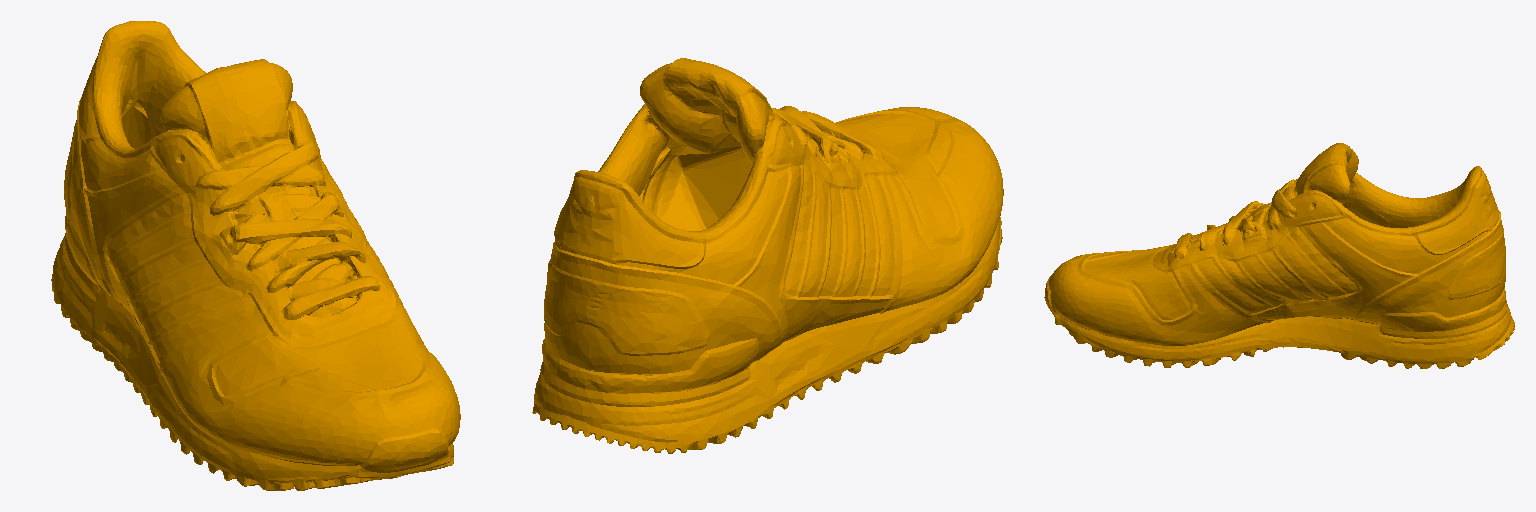
robot.urdf — 1zfj1p7h:
<?xml version='1.0'?>

<robot name="1zfj1p7h">
    <static>false</static>
    <link name="link">
        <inertial>
            <mass value="0.10777072422102028"/>
            <inertia ixx="0.0001183249047209546" ixy="-5.828800922241656e-06" ixz="-3.004969083671206e-06"
                     iyy="2.630734722432051e-05" iyz="-7.879881521695258e-06" izz="0.00011555919004091422"/>
        </inertial>
        <collision name="collision">
            <geometry>
                <mesh filename="package://miscnet/train/1zfj1p7h/collision_model_vhacd.obj"/>
            </geometry>
        </collision>
        <visual name="visual">
            <geometry>
                <mesh filename="package://miscnet/train/1zfj1p7h/visual_model.obj"/>
            </geometry>
        </visual>
    </link>
</robot>

--- Render facts (derived) ---
The picture shows the robot from 3 angles, left to right: view 1: azimuth 30°, elevation 25°; view 2: azimuth 150°, elevation 25°; view 3: azimuth 270°, elevation 25°; orthographic projection.
Model 1zfj1p7h with 1 links and 0 joints (none), rooted at link, posed every joint at zero.
Links seen in each view (by area): view 1: link; view 2: link; view 3: link.
Link boxes in pixels (x1,y1,x2,y2): link: [51, 21, 460, 490]; link: [532, 58, 1003, 453]; link: [1044, 143, 1514, 368].
Bounding box of the posed robot: 0.0464 × 0.1234 × 0.0576 m (x, y, z).
1 mesh visuals loaded from 1 distinct referenced files (1 OBJ).
